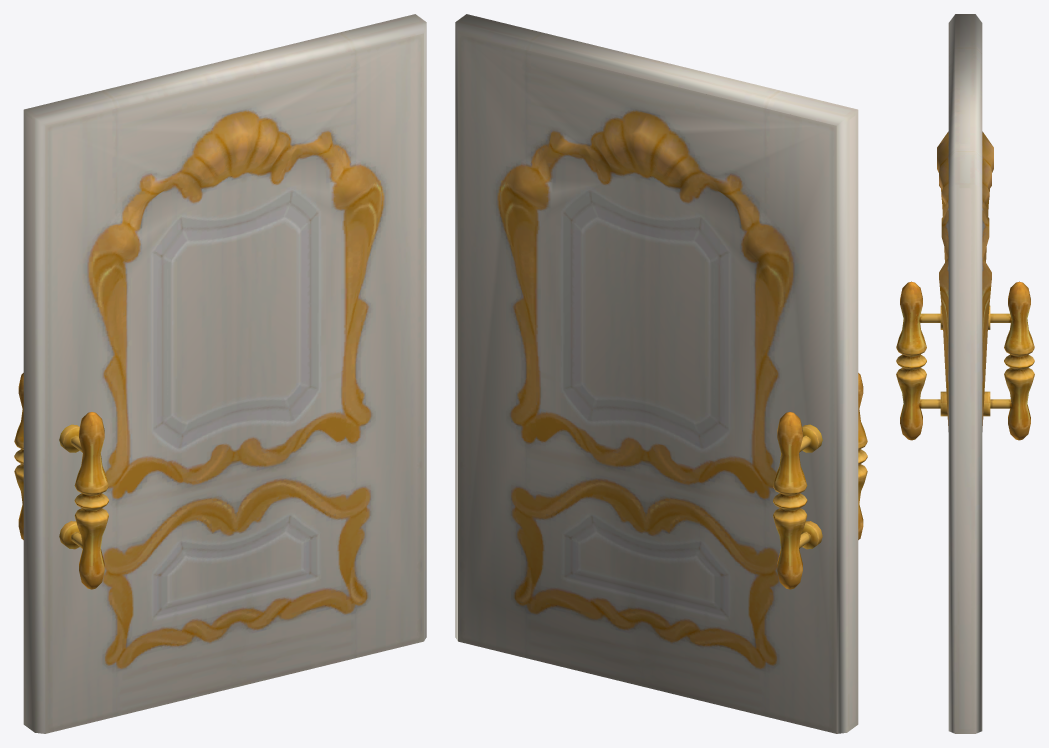
File: door_carving_as.glb
3 views of the same model, side by side, from view 1: azimuth 30°, elevation 25°; view 2: azimuth 150°, elevation 25°; view 3: azimuth 270°, elevation 25° (orthographic). The views are drawn at different scales.
Parts seen in each view (by area): view 1: group16__mDoorS; view 2: group16__mDoorS; view 3: group16__mDoorS.
Boxes of the visible parts, box(x1,y1,x2,y2) form: group16__mDoorS: box(14, 14, 426, 733); group16__mDoorS: box(455, 14, 867, 733); group16__mDoorS: box(896, 14, 1034, 733).
Size of the model in its own units: 12 by 18 by 4.13.
1 material, 1 textured.
